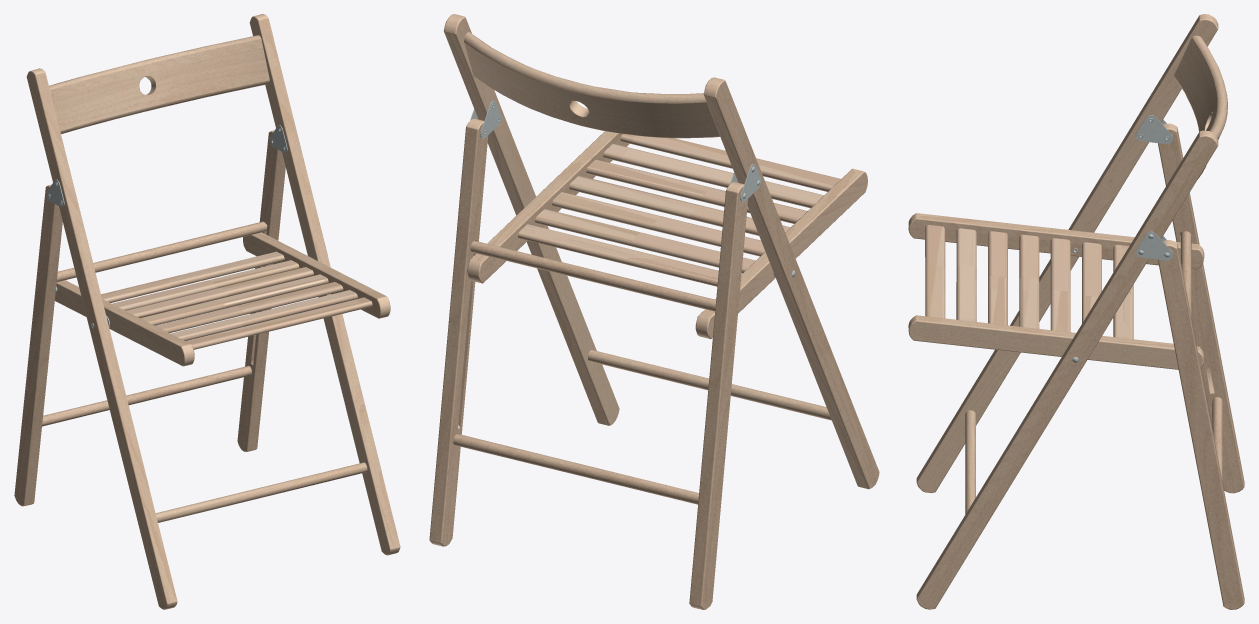
Rendered from FR_SVI_70534315.glb.
3 views of the same model, side by side, from view 1: azimuth 30°, elevation 25°; view 2: azimuth 150°, elevation 25°; view 3: azimuth 270°, elevation 25° (orthographic). The views are drawn at different scales.
Parts seen in each view (by area): view 1: model; view 2: model; view 3: model.
Boxes of the visible parts, x1,y1,x2,y2 form: model: (14,14,400,609); model: (429,14,879,609); model: (908,14,1244,609).
Bounding box in the file's own units: 0.4359 × 0.7796 × 0.5.
1 material, 1 textured.
